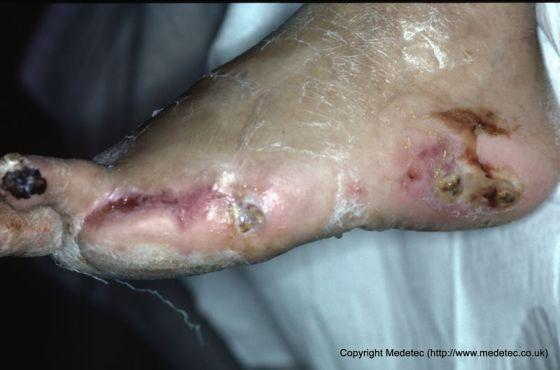NonPU: (0, 84, 541, 272)
